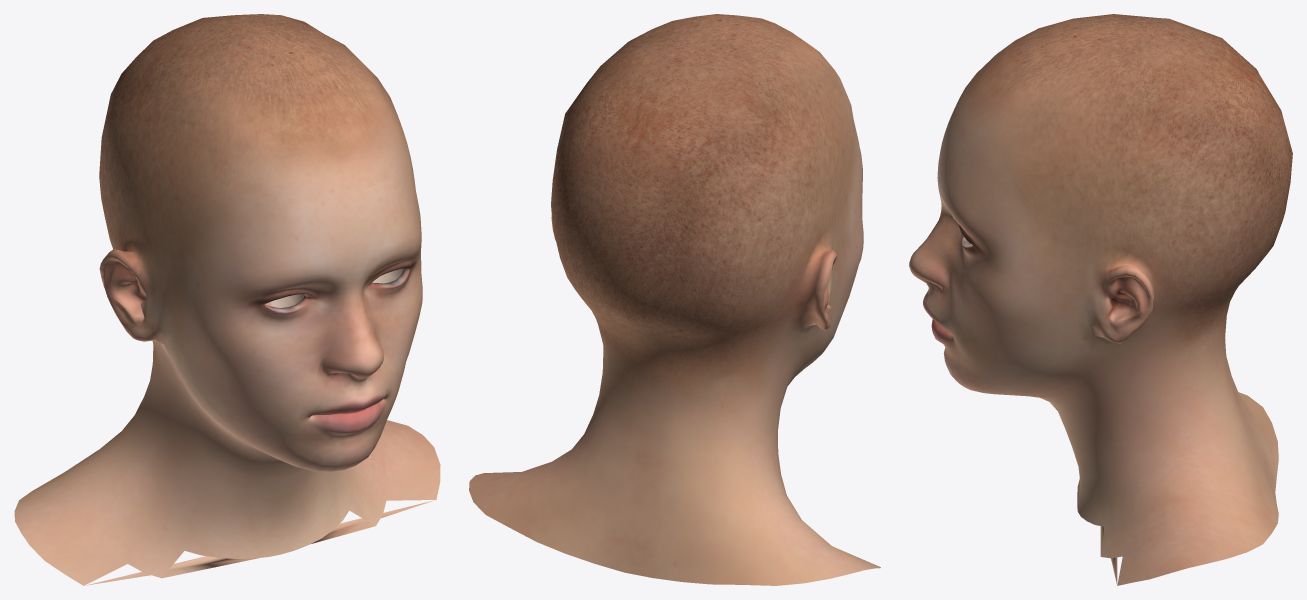
File: female_head_scan.glb
3 views of the same model, side by side, from view 1: azimuth 30°, elevation 25°; view 2: azimuth 150°, elevation 25°; view 3: azimuth 270°, elevation 25° (orthographic). The views are drawn at different scales.
Visible parts, largest first — view 1: head_female; view 2: head_female; view 3: head_female.
Part boxes in pixels (box(x1,y1,x2,y2)): head_female: box(14, 14, 440, 585); head_female: box(469, 14, 880, 585); head_female: box(909, 14, 1292, 585).
Size of the model in its own units: 0.2392 by 0.2943 by 0.21.
Materials: 1 (1 with a texture image).
